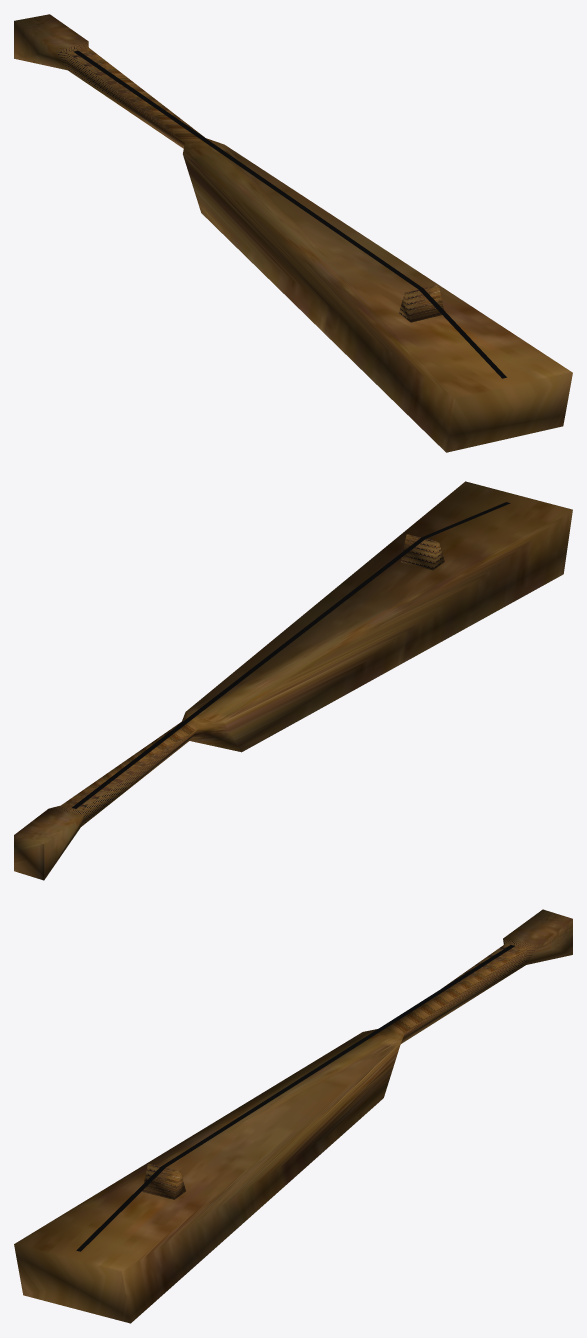
Rendered from ITMI_IE_DRUMSCHEIT.glb.
The picture shows the model from 3 angles, top to bottom: view 1: azimuth 30°, elevation 25°; view 2: azimuth 150°, elevation 25°; view 3: azimuth 330°, elevation 25°; orthographic projection. The views are drawn at different scales.
Visible parts, largest first — view 1: Mesh; view 2: Mesh; view 3: Mesh.
Boxes of the visible parts, bbox=[...] form: Mesh: bbox=[14, 14, 572, 452]; Mesh: bbox=[14, 481, 572, 880]; Mesh: bbox=[14, 909, 572, 1323].
Bounding box in the file's own units: 0.2434 × 0.1743 × 1.84.
Materials: 2 (2 with a texture image).
